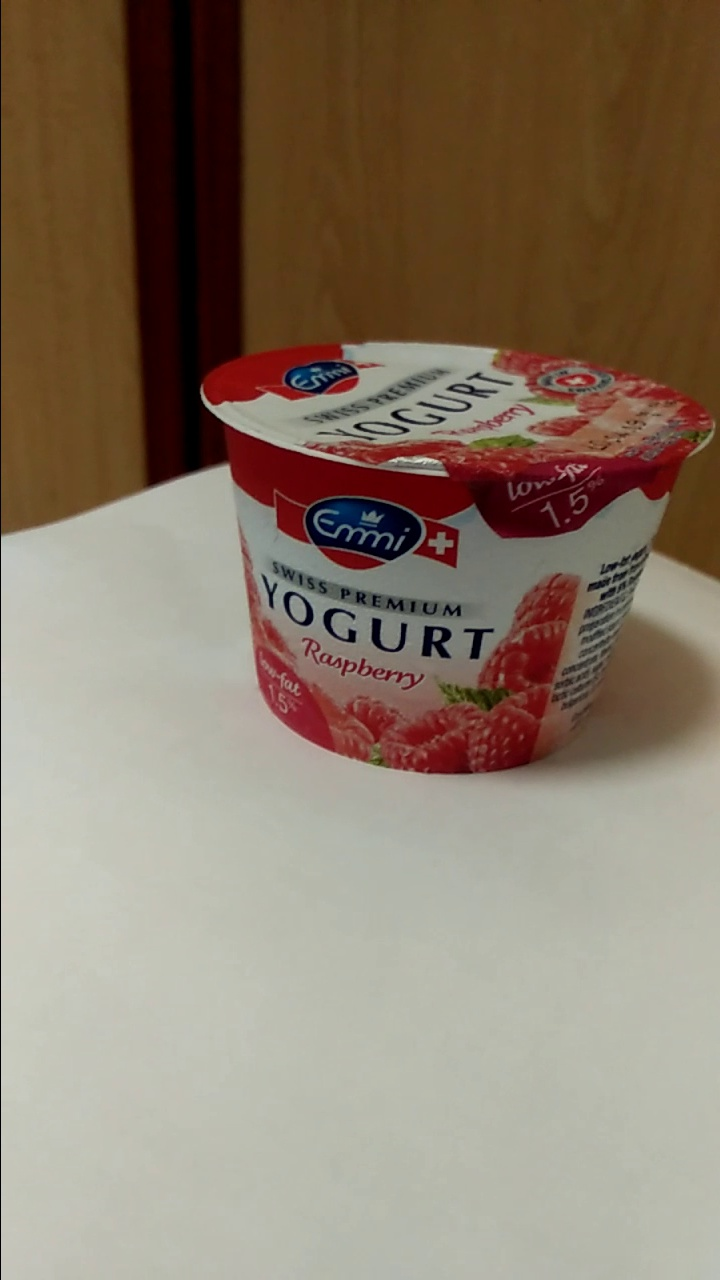yogurt: (215, 349, 711, 780)
